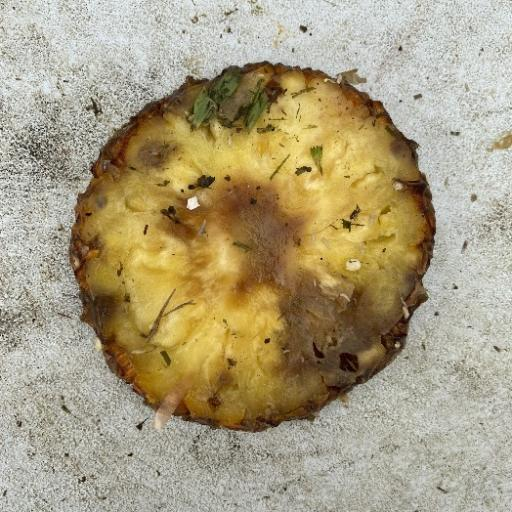Waste: (66, 59, 437, 433)
